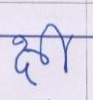i_matra: (47, 23, 73, 73)
